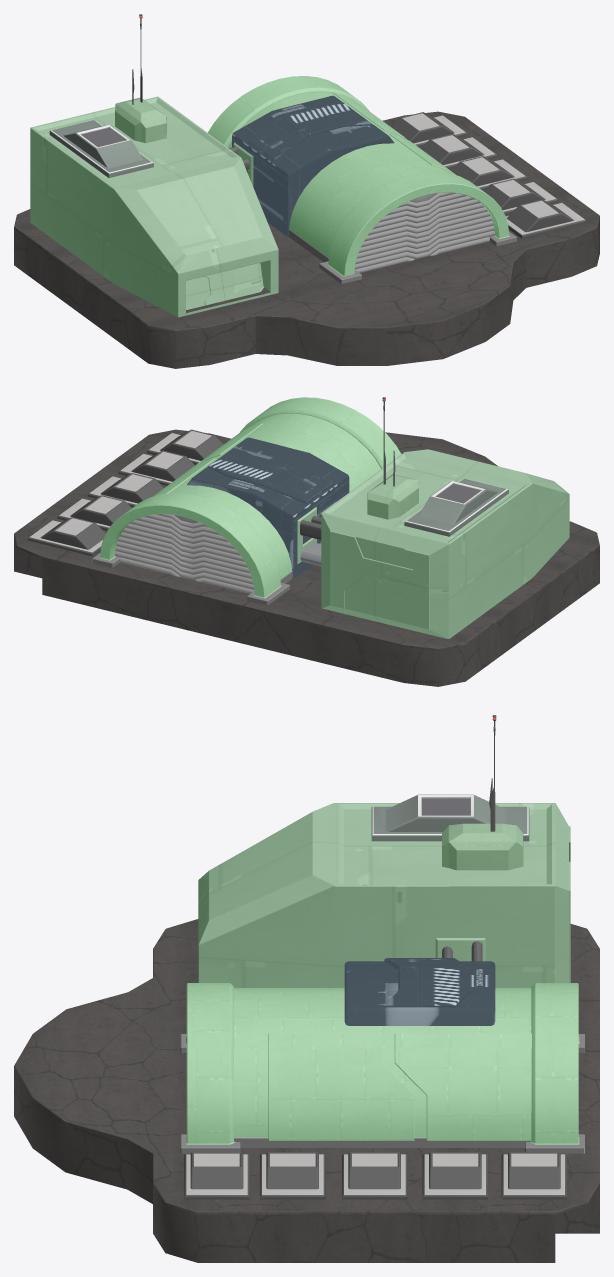
File: airfield.glb
3 renders of one model, top to bottom at view 1: azimuth 30°, elevation 25°; view 2: azimuth 150°, elevation 25°; view 3: azimuth 270°, elevation 25°, orthographic. The views are drawn at different scales.
Parts seen in each view (by area): view 1: Floorplate, Side_Structure1, Hangar, HangarAddon, pPlane2, Roof_object, Side_Object4, Roof_box, Side_Object7, Side_Object8, Side_Object6, Side_Object5; view 2: Floorplate, Side_Structure1, Hangar, HangarAddon, pPlane3, Roof_object, Side_Object8, Roof_box, Side_Object5, Side_Object6, Side_Object4, Side_Object7 (+2 smaller); view 3: Floorplate, Hangar, Side_Structure1, HangarAddon, Roof_object, Roof_box, Side_Object4, Side_Object5, Side_Object6, Side_Object7, Side_Object8, Tubeplate1.
Boxes of the visible parts, x1,y1,x2,y2 form: Floorplate: (14, 111, 599, 368); Side_Structure1: (30, 96, 278, 317); Hangar: (208, 76, 516, 283); HangarAddon: (232, 95, 394, 236); pPlane2: (355, 192, 494, 272); Roof_object: (49, 120, 153, 177); Side_Object4: (505, 199, 586, 238); Roof_box: (115, 97, 166, 143); Side_Object7: (421, 134, 497, 169); Side_Object8: (391, 112, 467, 147); Side_Object6: (451, 156, 527, 190); Side_Object5: (484, 178, 558, 214); Floorplate: (14, 429, 599, 686); Side_Structure1: (321, 449, 569, 638); Hangar: (92, 397, 401, 605); HangarAddon: (187, 437, 349, 578); pPlane3: (115, 514, 254, 593); Roof_object: (404, 478, 508, 536); Side_Object8: (27, 517, 105, 556); Roof_box: (367, 474, 418, 519); Side_Object5: (118, 450, 194, 485); Side_Object6: (87, 473, 163, 507); Side_Object4: (147, 429, 223, 464); Side_Object7: (57, 495, 131, 530); Floorplate: (14, 919, 599, 1262); Hangar: (180, 983, 584, 1153); Side_Structure1: (198, 803, 570, 987); HangarAddon: (344, 958, 495, 1025); Roof_object: (371, 794, 529, 841); Roof_box: (442, 823, 523, 870); Side_Object4: (184, 1152, 249, 1199); Side_Object5: (260, 1152, 325, 1199); Side_Object6: (342, 1152, 407, 1199); Side_Object7: (422, 1152, 487, 1199); Side_Object8: (501, 1152, 566, 1199); Tubeplate1: (435, 938, 485, 961).
Bounding box in the file's own units: 15.06 × 7.72 × 12.73.
Materials: 16 (7 with a texture image).
